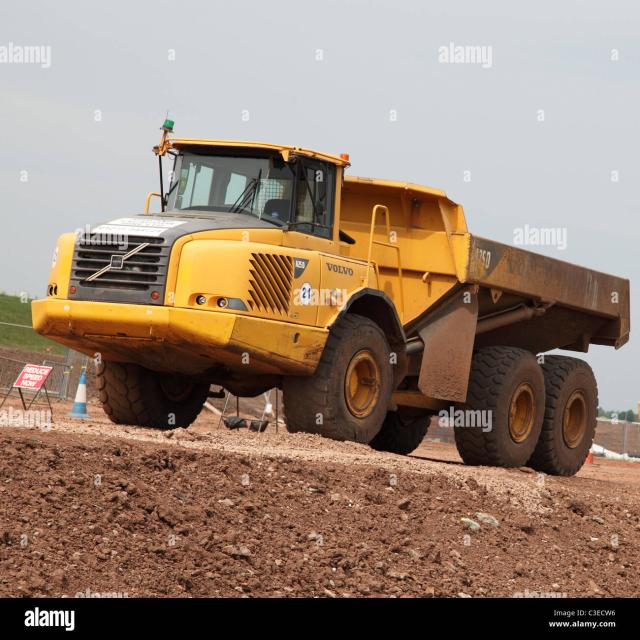dump_truck: (19, 107, 628, 486)
